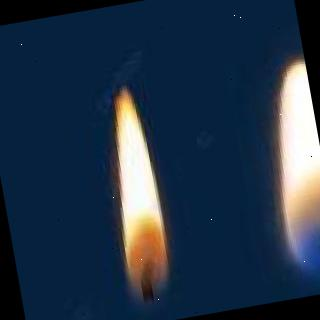fire: (95, 86, 176, 304), (256, 59, 320, 279)
